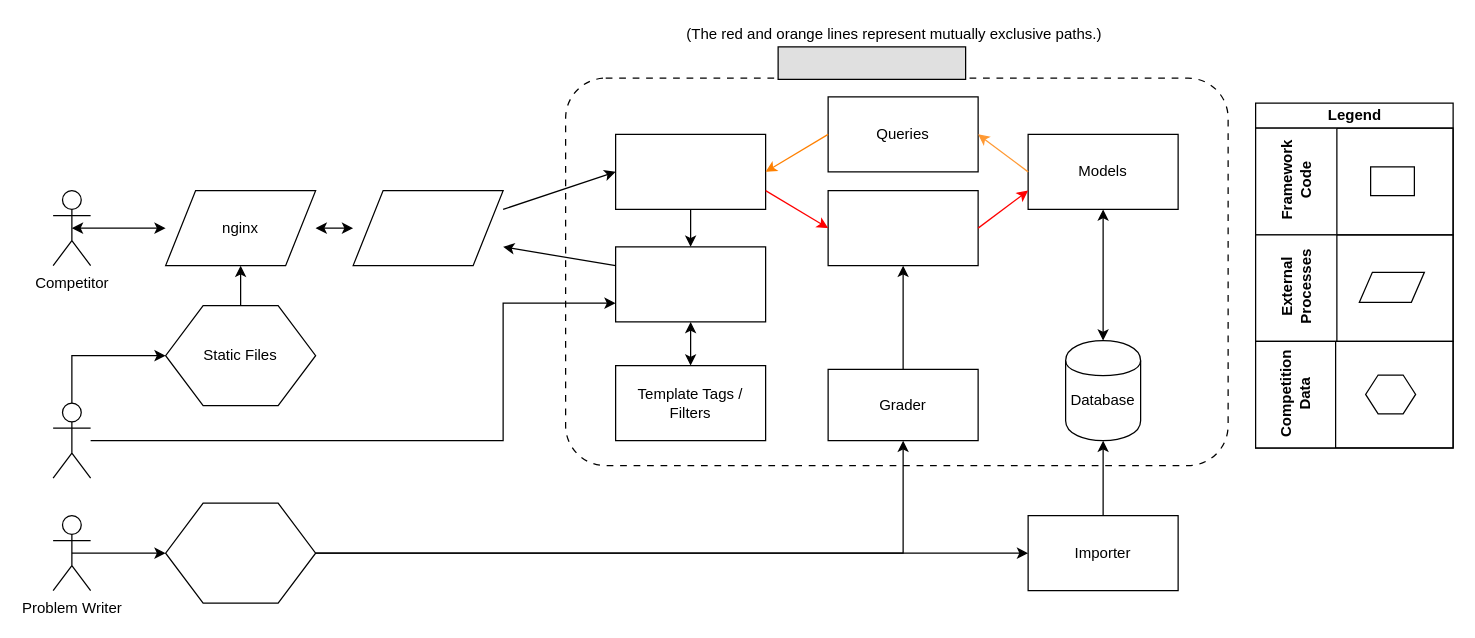
The diagram is 1475 pixels wide and 638 high, and some of its shapes have lost their labels. Each missing label, with the centre of its shape:
"Commands" belongs at (902,227).
"Developer" belongs at (71,440).
"Gunicorn" belongs at (427,227).
"Problems" belongs at (240,552).
"Request Lifecycle" belongs at (871,62).
"Templates" belongs at (690,284).
"Views" belongs at (690,171).
